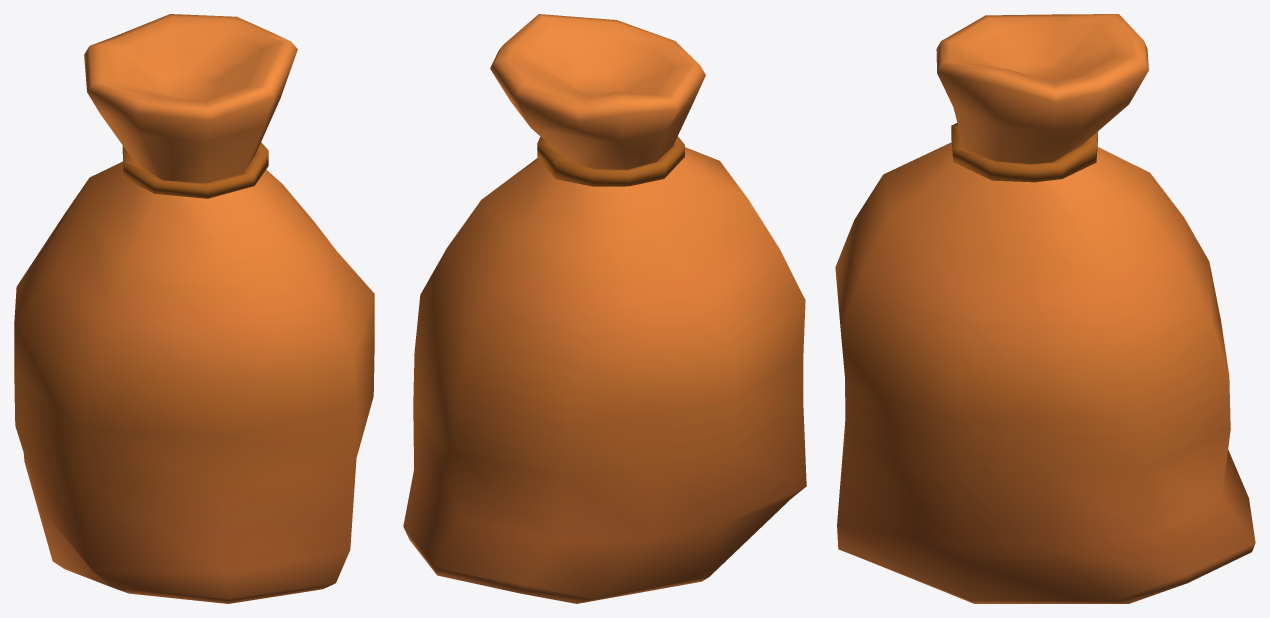
Rendered from decorSmall-village-66.glb.
3 views of the same model, side by side, from view 1: azimuth 30°, elevation 25°; view 2: azimuth 150°, elevation 25°; view 3: azimuth 270°, elevation 25° (orthographic). The views are drawn at different scales.
Parts seen in each view (by area): view 1: piece; view 2: piece; view 3: piece.
Boxes of the visible parts, x1,y1,x2,y2 form: piece: (14,14,374,603); piece: (403,14,806,603); piece: (835,14,1255,603).
Size of the model in its own units: 0.522 by 0.8116 by 0.5958.
1 material, 1 textured.
